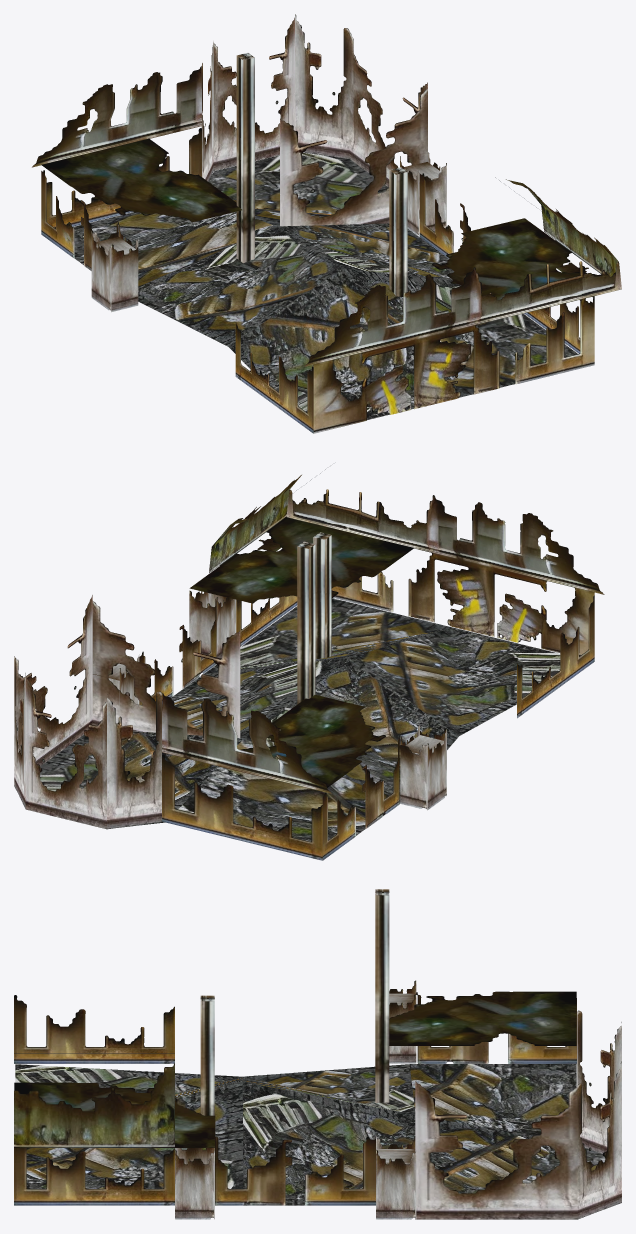
The model's file is l_hq_dam_hdtex.glb.
3 views of the same model, one above another, from view 1: azimuth 30°, elevation 25°; view 2: azimuth 150°, elevation 25°; view 3: azimuth 270°, elevation 25° (orthographic). The views are drawn at different scales.
Visible parts, largest first — view 1: L_SensorControlDAM; view 2: L_SensorControlDAM; view 3: L_SensorControlDAM.
Boxes of the visible parts, x1,y1,x2,y2 form: L_SensorControlDAM: (32, 14, 621, 433); L_SensorControlDAM: (14, 469, 604, 860); L_SensorControlDAM: (14, 889, 621, 1219).
Size of the model in its own units: 19.94 by 12.47 by 30.23.
Materials: 2 (2 with a texture image).
